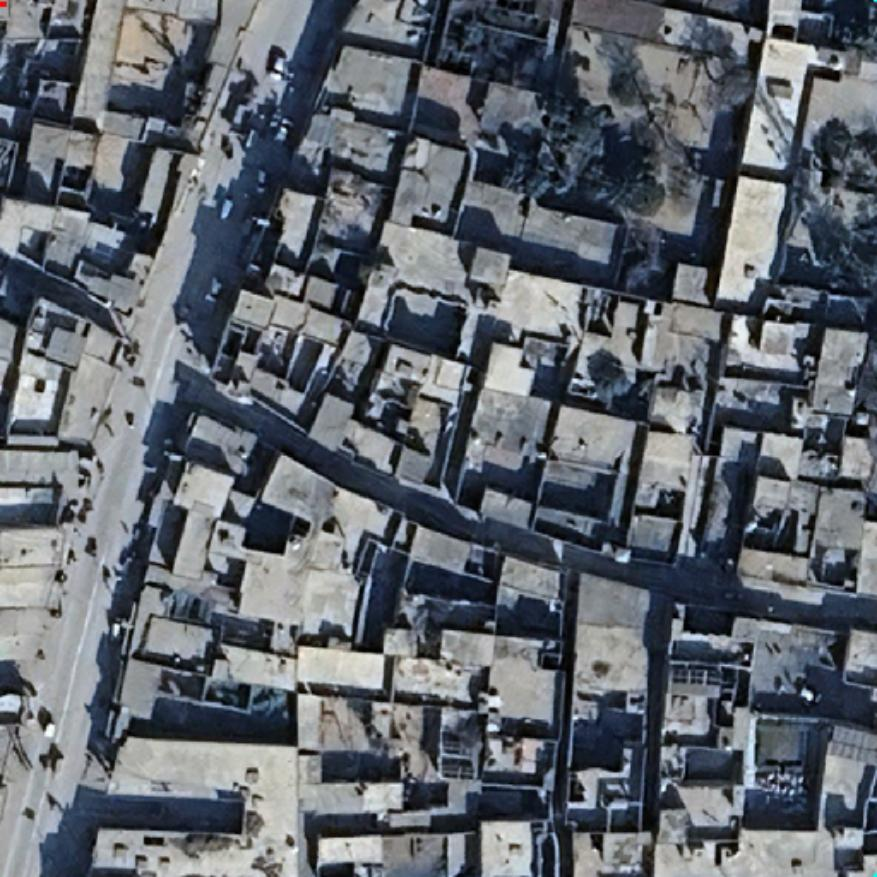Solarpanel: (828, 723, 875, 766), (669, 666, 727, 686), (440, 758, 476, 782), (440, 730, 464, 751)
